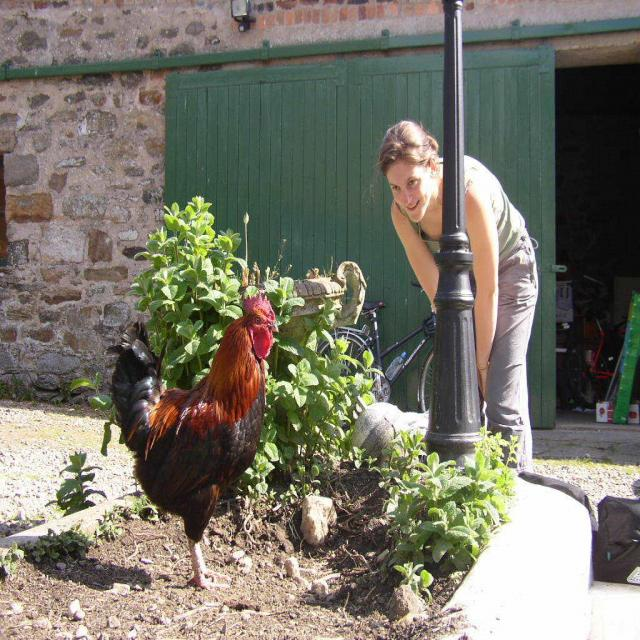Chicken: (105, 291, 281, 579)
